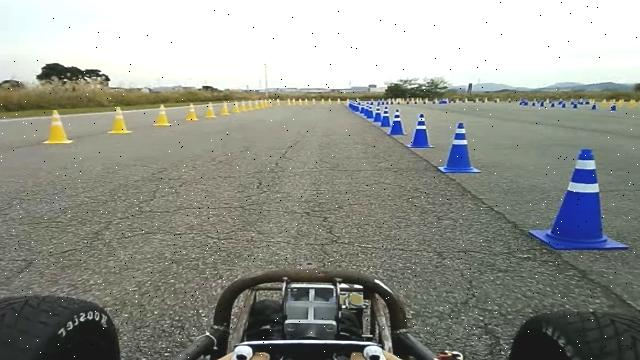blue cone: (528, 148, 630, 250), (438, 122, 482, 173), (406, 113, 435, 148), (388, 108, 407, 136), (380, 106, 391, 128)
yellow cone: (43, 109, 74, 144), (108, 105, 132, 134), (152, 103, 172, 126), (186, 102, 199, 121), (205, 102, 217, 118), (220, 101, 230, 115), (232, 101, 240, 113), (240, 100, 248, 112)
